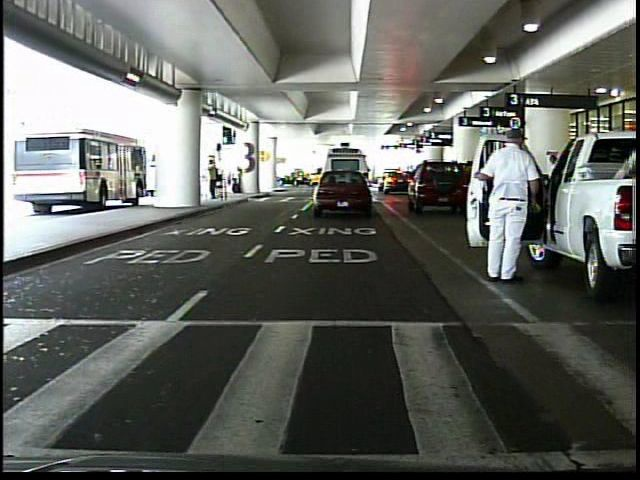person: (477, 124, 542, 288), (539, 149, 565, 220), (207, 155, 221, 203), (231, 163, 247, 198)
